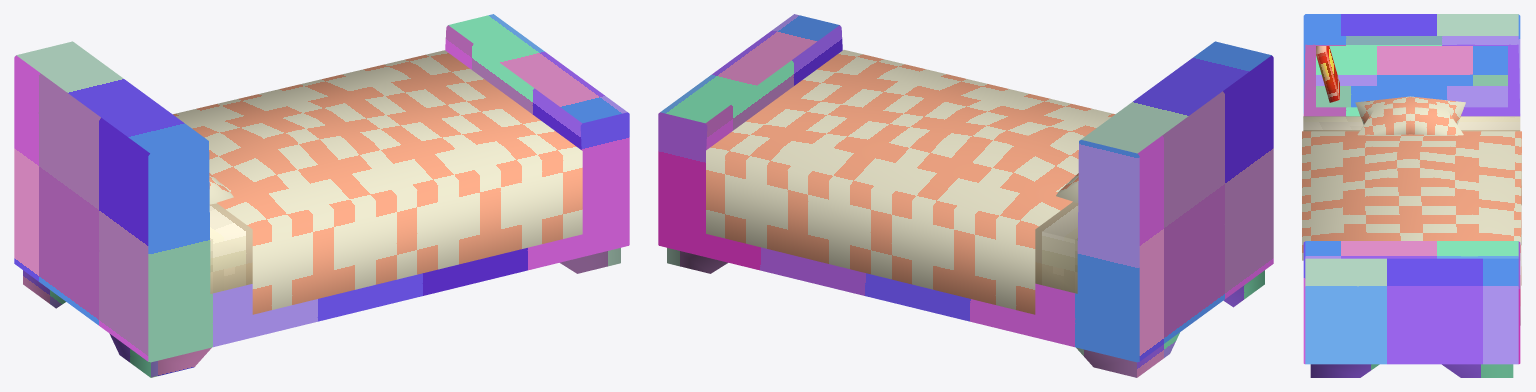
Rendered from rmk_grn_bedS_jwl.dae.
3 renders of one model, left to right at view 1: azimuth 30°, elevation 25°; view 2: azimuth 150°, elevation 25°; view 3: azimuth 270°, elevation 25°, orthographic. The views are drawn at different scales.
Visible parts, largest first — view 1: rmk_grn_bedS_jwl; view 2: rmk_grn_bedS_jwl; view 3: rmk_grn_bedS_jwl.
Boxes of the visible parts, <box> form: rmk_grn_bedS_jwl: <box>14,14,629,377</box>; rmk_grn_bedS_jwl: <box>658,14,1273,377</box>; rmk_grn_bedS_jwl: <box>1302,14,1521,377</box>.
Bounding box in the file's own units: 63.58 × 28.75 × 31.7.
Materials: 3 (3 with a texture image).
